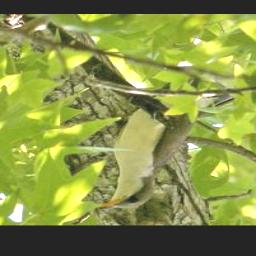Cuckoo: (94, 77, 237, 213)
